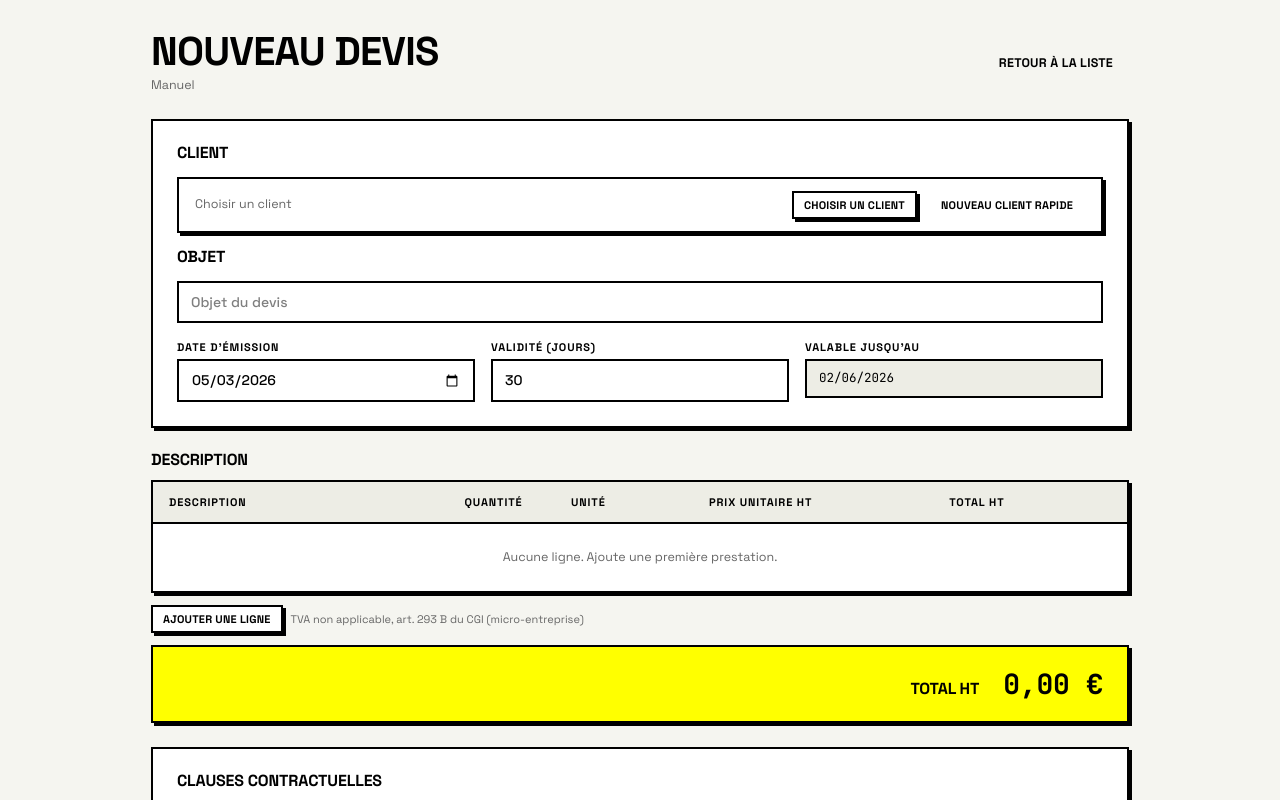
Test: NewManual › ajoute des items via ItemsEditor
Click the button with test id "items-add".
click(217, 619)  # box [151, 605, 283, 633]
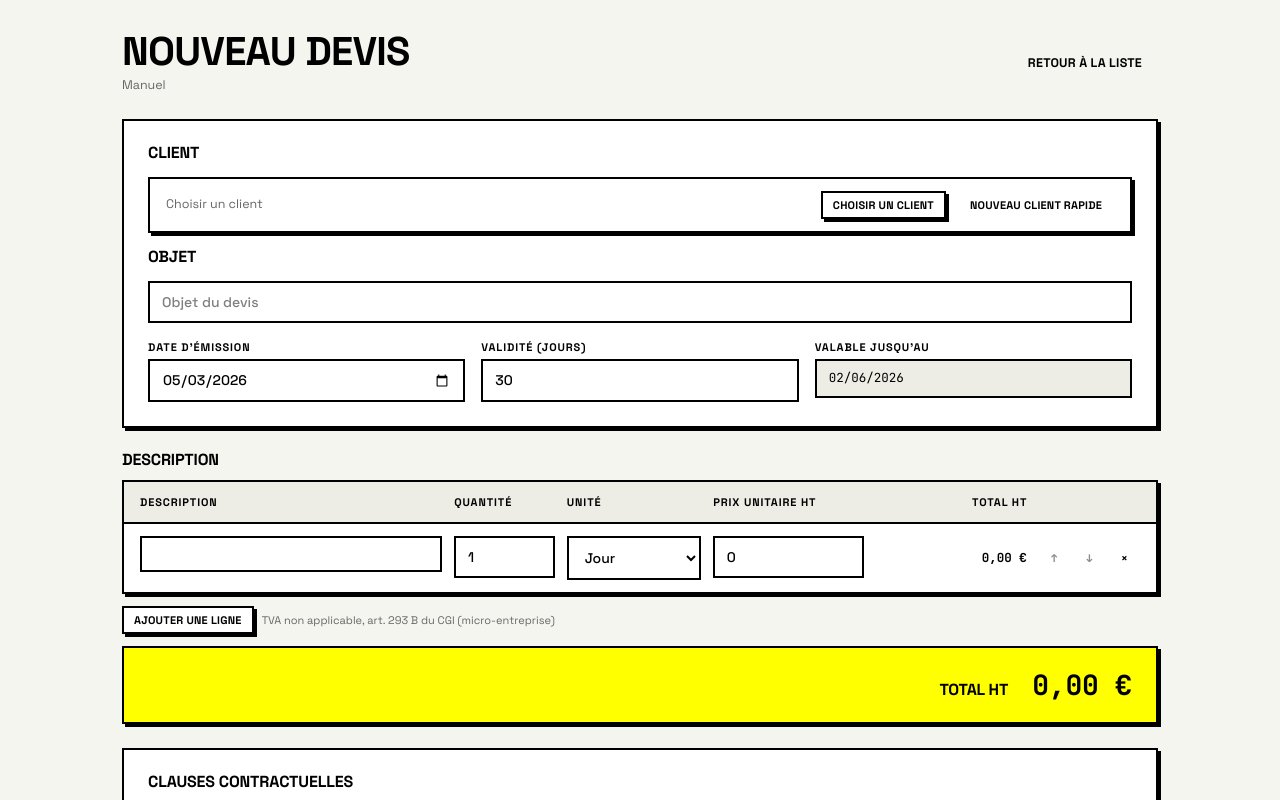
Now the element with test id "item-row-0" is shown, box [124, 524, 1156, 592]
